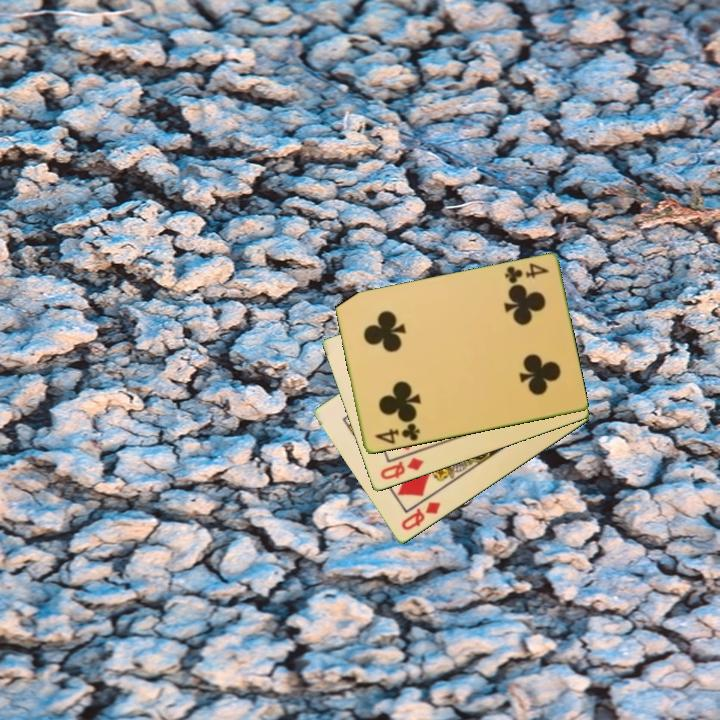4c: (371, 420, 423, 447), (501, 260, 551, 287)
Qd: (397, 498, 444, 534), (376, 454, 427, 483)
